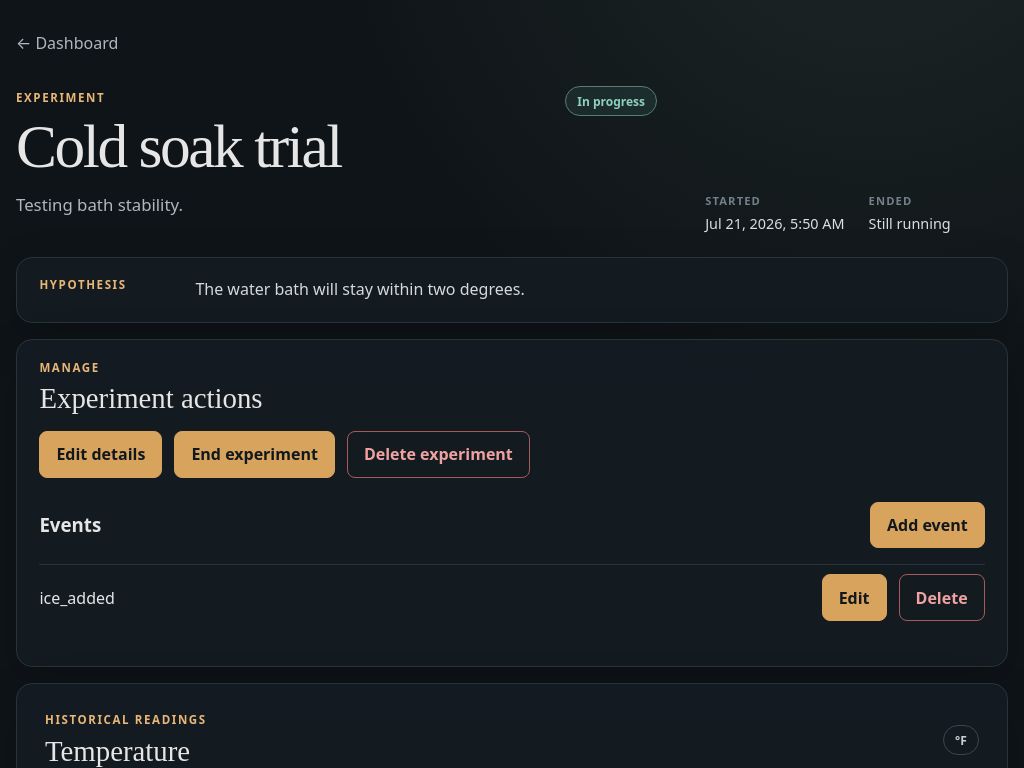
Test: experiment route › shows an API error when an event cannot be saved
Expected: the heading "Cold soak trial" is shown, x1=16 y1=112 x2=341 y2=180
Click the button "Add event" at (927, 525), box x1=870 y1=502 x2=985 y2=548
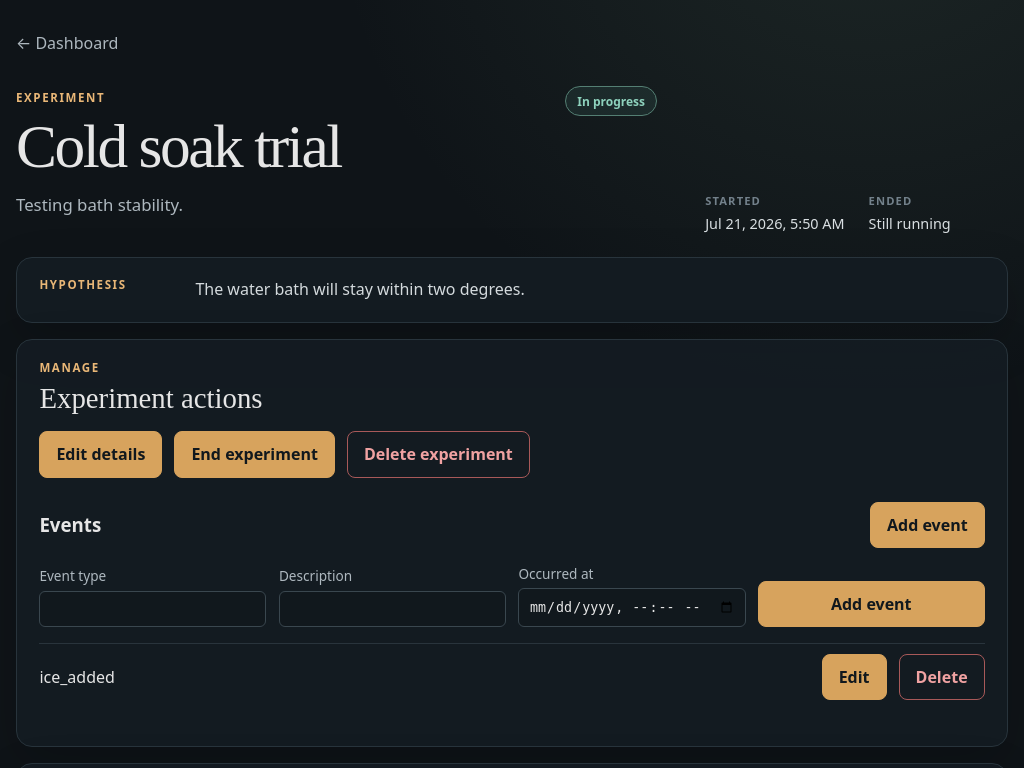
Type "pressed" into the field labelled "Event type" at (153, 609), box x1=39 y1=591 x2=266 y2=627
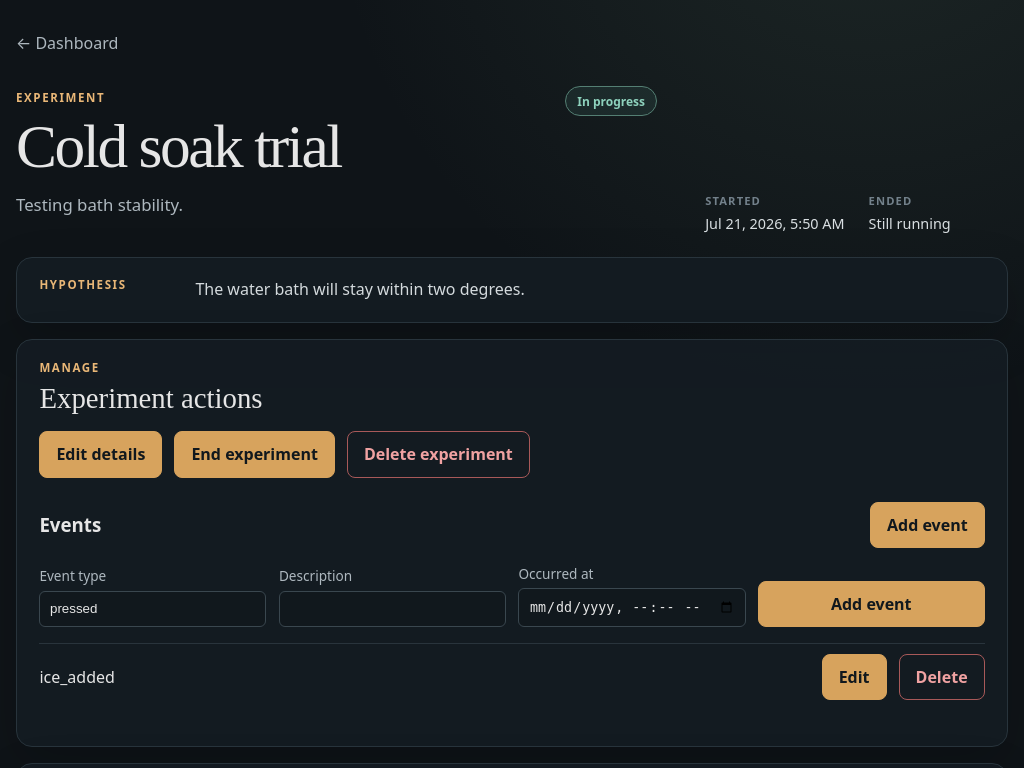
Type "Pressed fruit." into the field labelled "Description" at (392, 609), box x1=279 y1=591 x2=506 y2=627
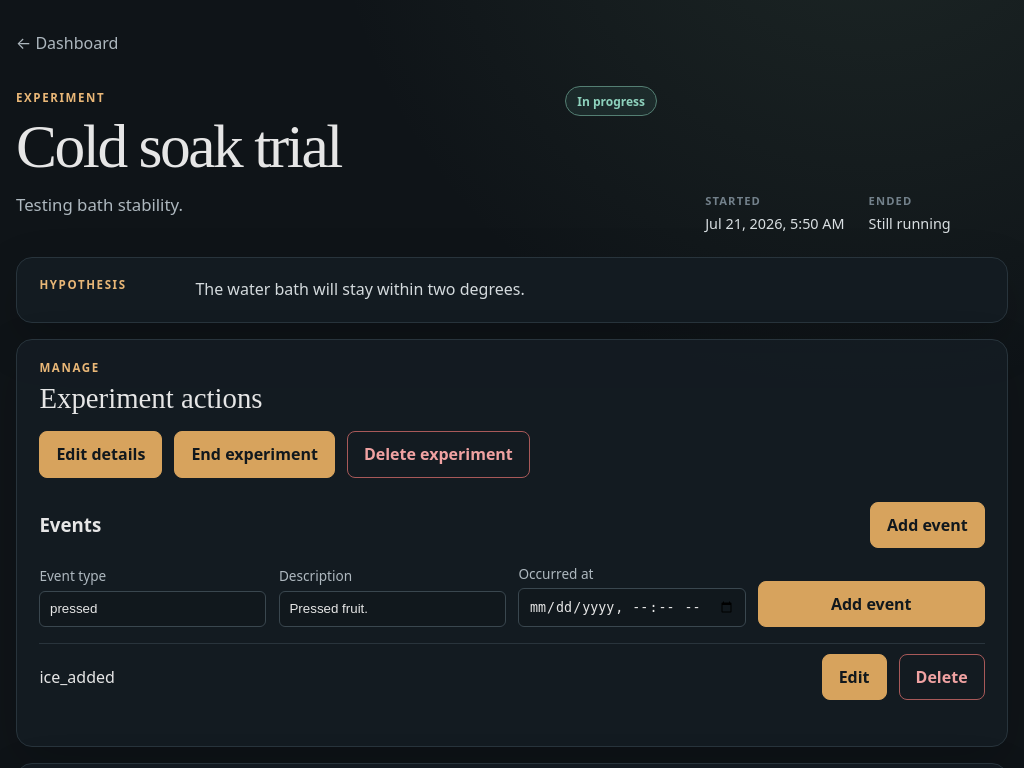
Type "2026-07-21T07:00" into the field labelled "Occurred at" at (632, 608), box x1=518 y1=588 x2=746 y2=627
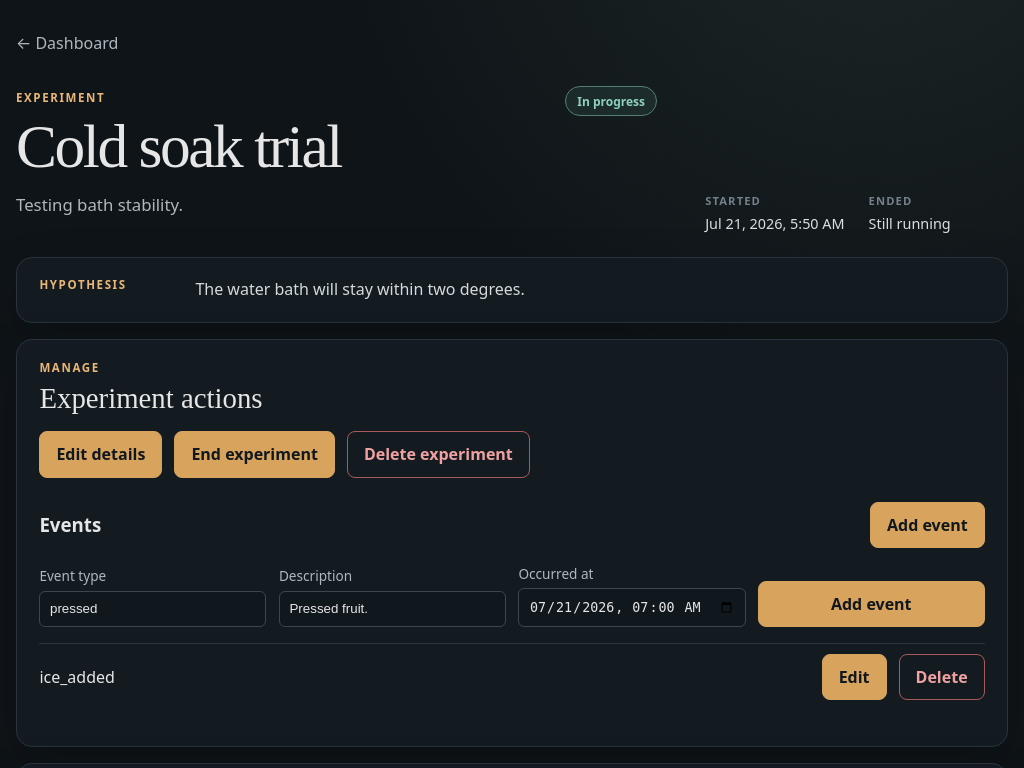
Click the button "Add event" in the row of "Occurred at" at (871, 604), box x1=758 y1=581 x2=985 y2=627
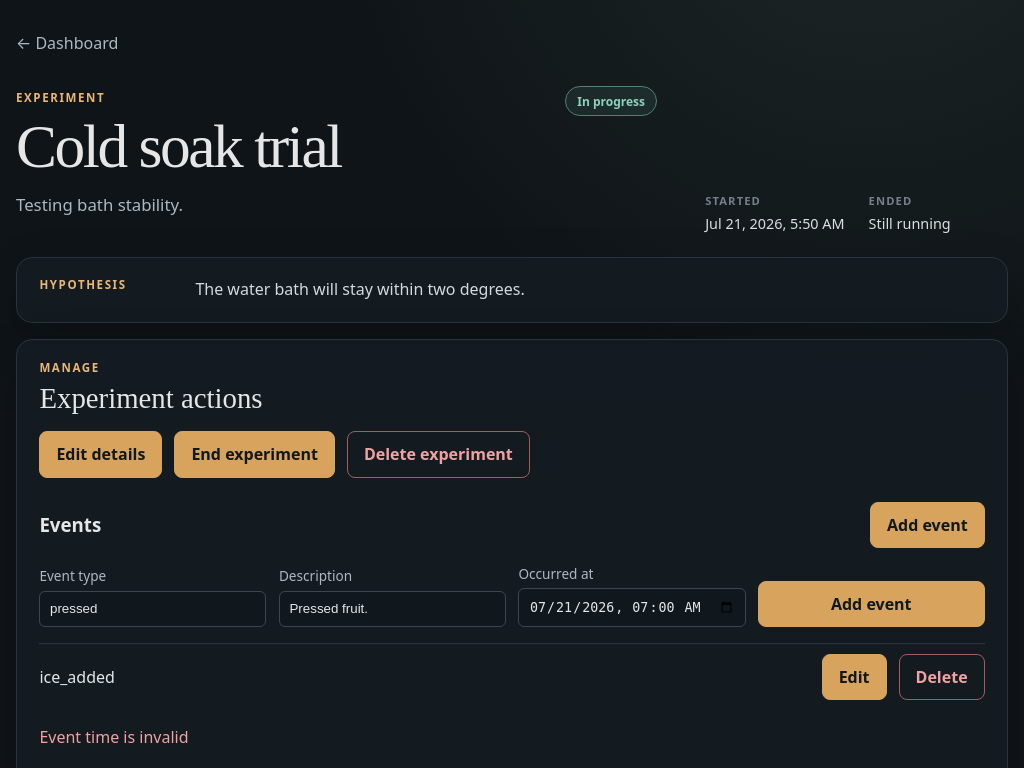
Expected: the message reads "Event time is invalid", x1=39 y1=726 x2=188 y2=748
